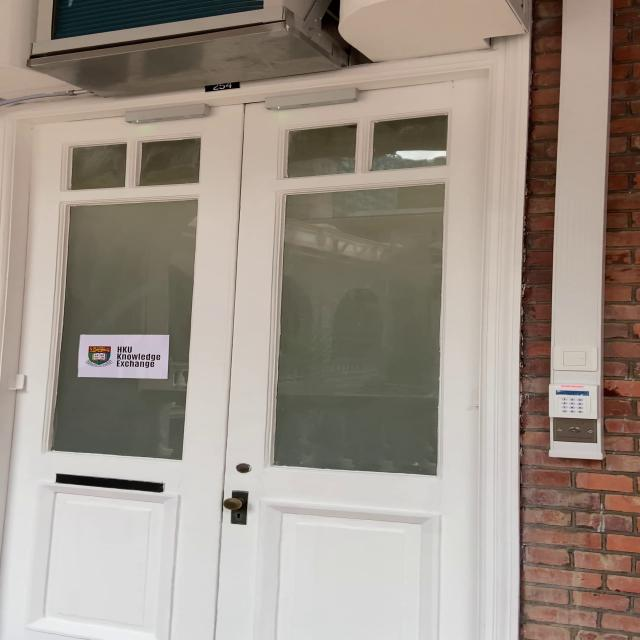room254: (198, 78, 243, 94)
